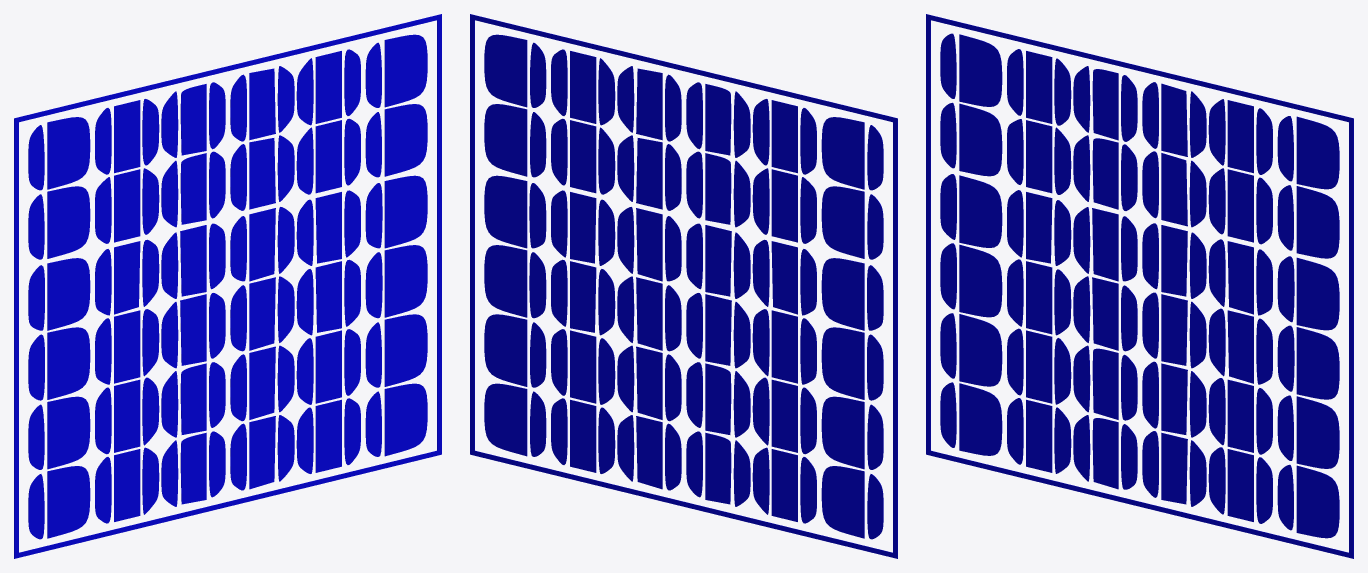
The model's file is panel.dae.
3 renders of one model, left to right at view 1: azimuth 30°, elevation 25°; view 2: azimuth 150°, elevation 25°; view 3: azimuth 330°, elevation 25°, orthographic.
Parts seen in each view (by area): view 1: node_d08533a7_c5a8_48ca_94af_f70f76748d19_mesh0; view 2: node_d08533a7_c5a8_48ca_94af_f70f76748d19_mesh0; view 3: node_d08533a7_c5a8_48ca_94af_f70f76748d19_mesh0.
Part boxes in pixels (x1,y1,x2,y2): node_d08533a7_c5a8_48ca_94af_f70f76748d19_mesh0: (14,14,441,558); node_d08533a7_c5a8_48ca_94af_f70f76748d19_mesh0: (470,14,897,558); node_d08533a7_c5a8_48ca_94af_f70f76748d19_mesh0: (926,14,1353,558).
Size of the model in its own units: 126 by 124 by 0.1.
